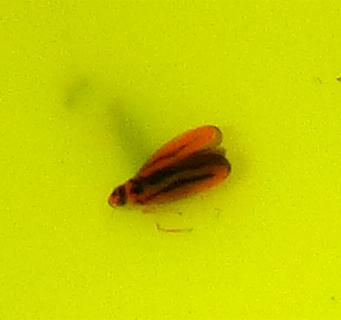Hemiptera: (100, 100, 241, 220)
